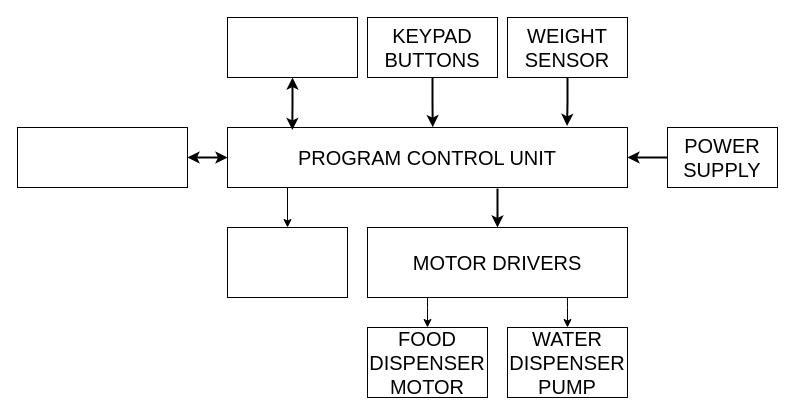
Some shapes in this 795 by 416 pixel diagram are drawn without their labels. Each missing label, with the box of its shape:
INTERNET CONNECTIVITY: (16, 126, 188, 188)
REAL TIME CLOCK: (226, 16, 358, 78)
SPEAKER: (226, 226, 348, 298)
